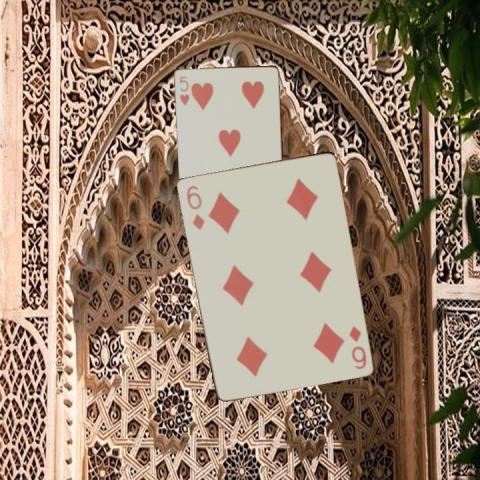5h: (176, 73, 190, 106)
6d: (183, 182, 205, 231), (346, 322, 368, 371)
